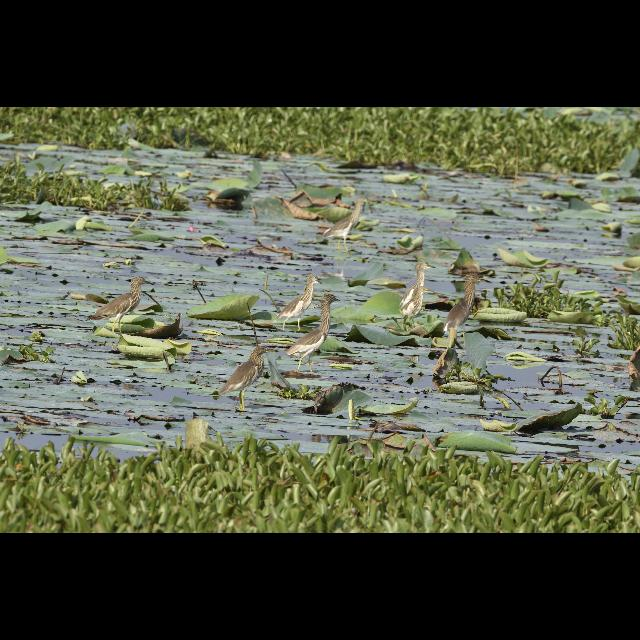heron: (290, 294, 346, 364), (211, 340, 273, 402), (86, 272, 156, 326), (322, 196, 363, 250), (404, 256, 434, 320), (452, 276, 482, 336)
